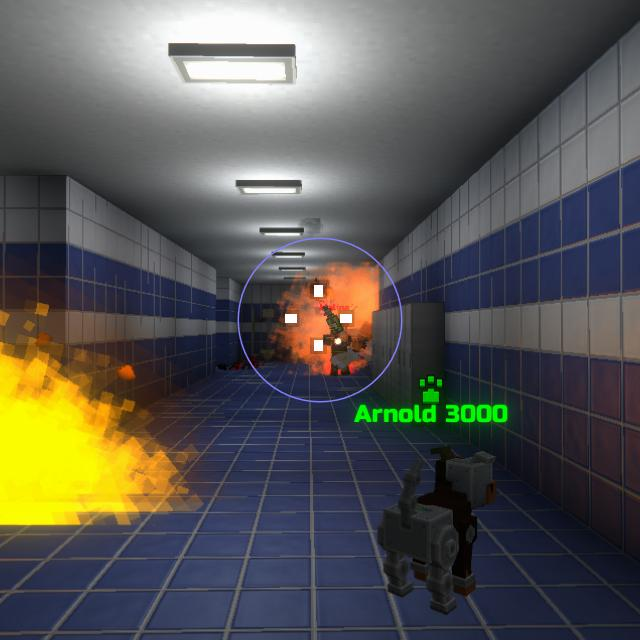Enemy: (322, 309, 374, 375)
